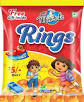plastic: (2, 4, 81, 102)
